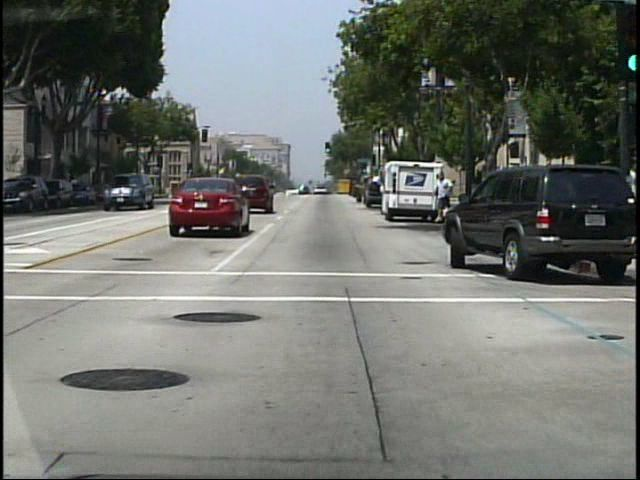person: (429, 171, 455, 227), (352, 175, 369, 203)
